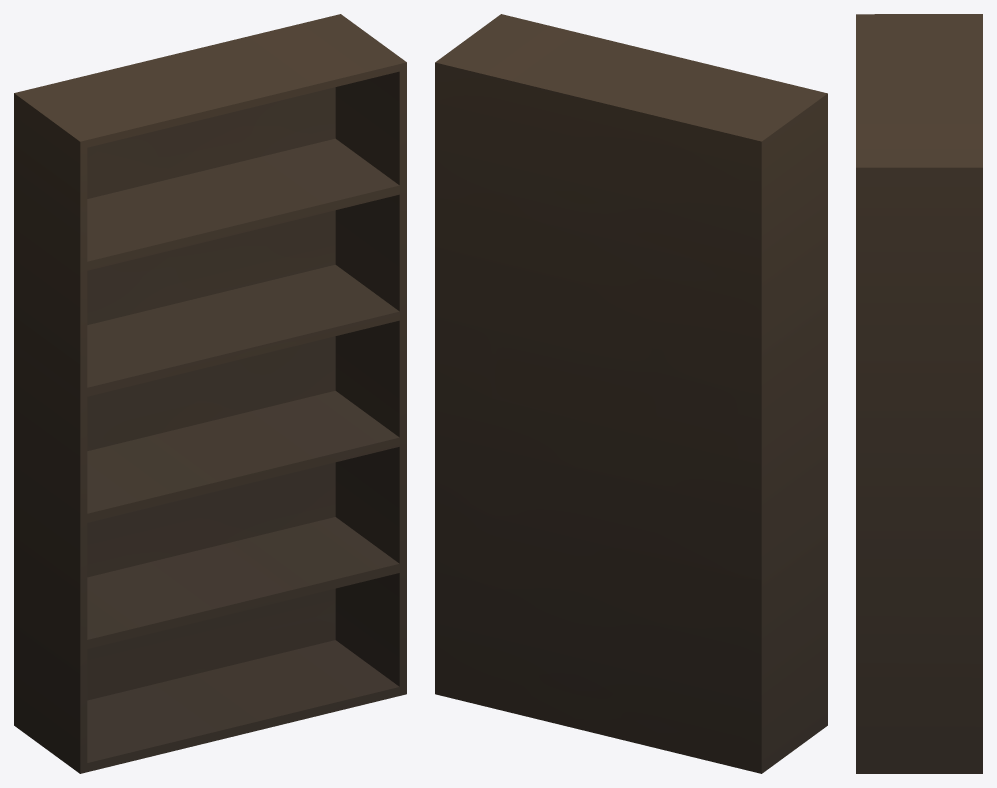
The model's file is Shelving_5Tier_Brown.fbx.
3 renders of one model, left to right at view 1: azimuth 30°, elevation 25°; view 2: azimuth 150°, elevation 25°; view 3: azimuth 270°, elevation 25°, orthographic. The views are drawn at different scales.
Visible parts, largest first — view 1: Shelving_5Tier_Brown; view 2: Shelving_5Tier_Brown; view 3: Shelving_5Tier_Brown.
Part boxes in pixels (x1,y1,x2,y2): Shelving_5Tier_Brown: (14,14,406,773); Shelving_5Tier_Brown: (435,14,827,773); Shelving_5Tier_Brown: (856,14,982,773).
Bounding box in the file's own units: 103 × 190 × 36.08.
